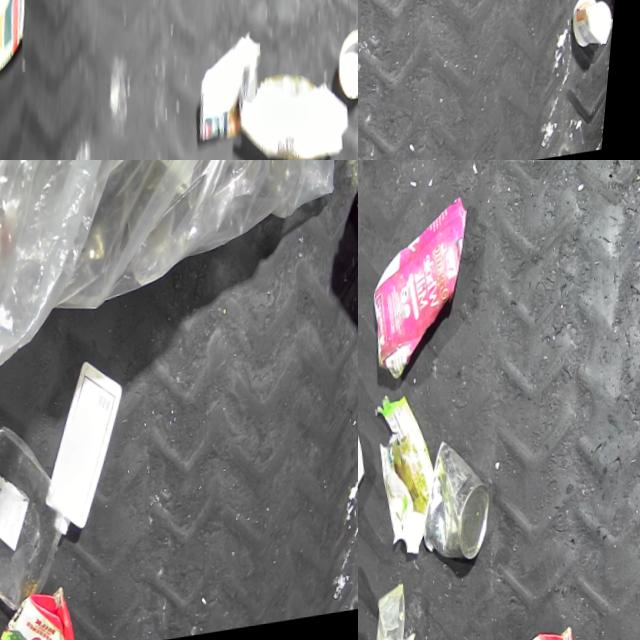can: (421, 435, 507, 568), (333, 30, 358, 110)
milk_jug: (36, 359, 144, 547)
non_white_jug: (0, 580, 92, 640), (492, 620, 601, 640)
